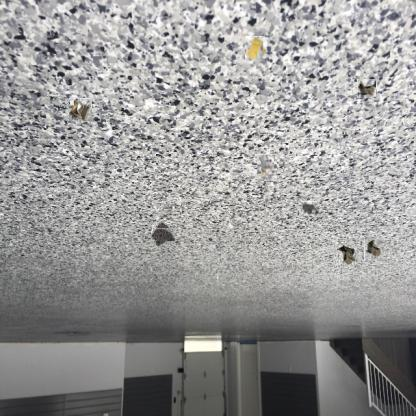dirty: (68, 98, 92, 121), (257, 154, 277, 181), (334, 245, 356, 268), (244, 38, 265, 60), (363, 239, 385, 260), (357, 79, 377, 98)
liquid: (153, 225, 173, 244), (301, 201, 319, 216)
